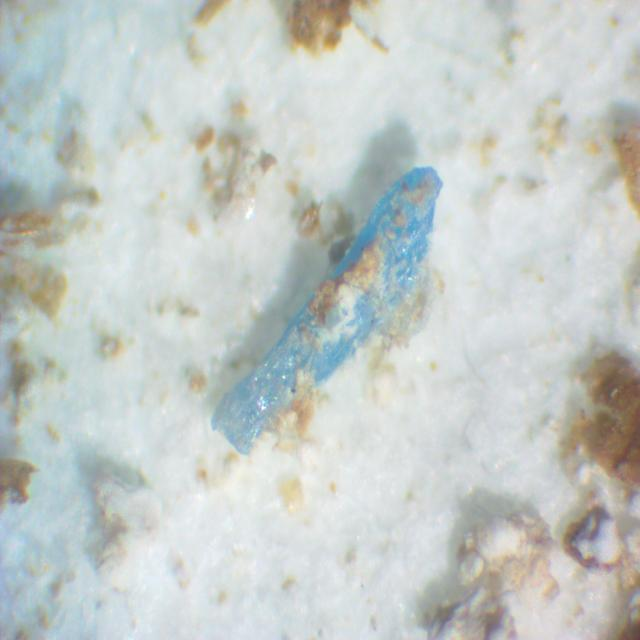microplastic: (213, 166, 444, 457)
